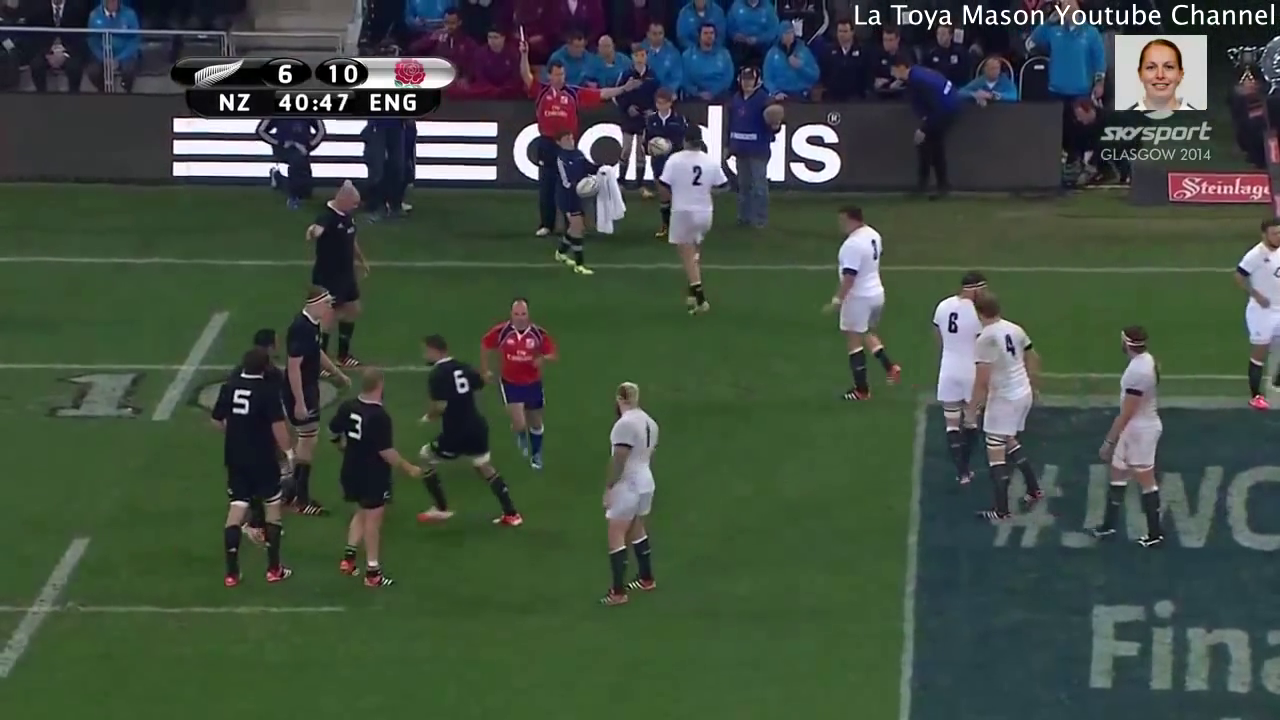player: (408, 336, 523, 535), (205, 340, 293, 592), (956, 298, 1039, 526), (333, 360, 408, 594), (1099, 315, 1172, 551), (598, 372, 667, 611), (825, 202, 904, 404), (474, 300, 562, 476), (657, 127, 726, 324), (284, 280, 337, 524), (305, 174, 369, 364), (925, 268, 971, 508), (1229, 215, 1280, 415)
